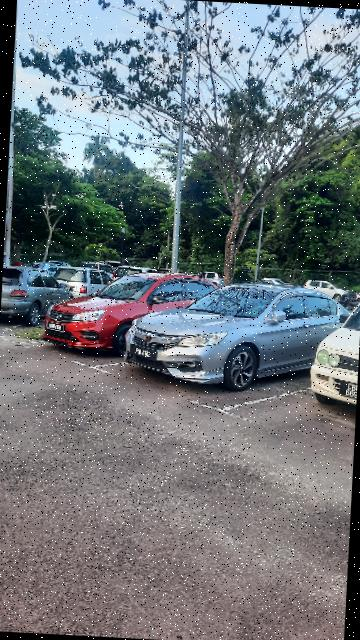License_Plate: (128, 344, 162, 362), (338, 380, 358, 402), (46, 320, 68, 335)
car: (122, 275, 351, 398), (40, 266, 226, 362), (310, 291, 360, 417)
